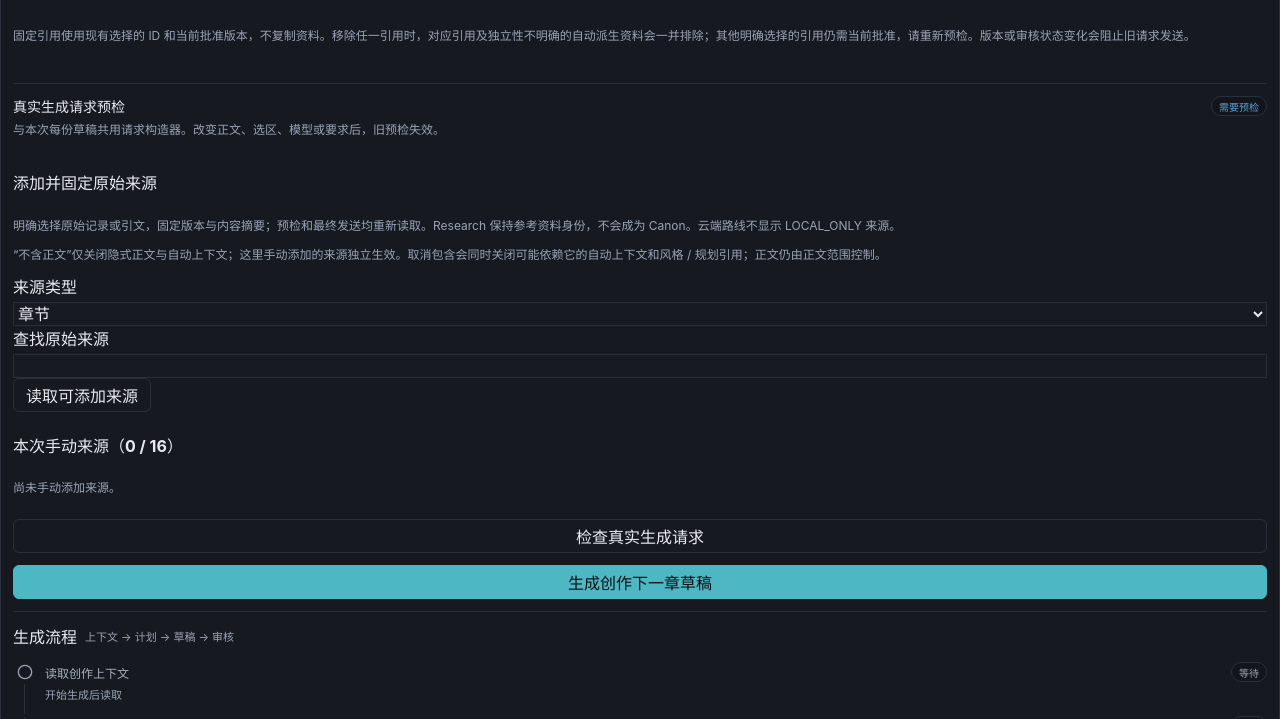
Test: never resurrects source pins after switching project authority and returning
The width and height of the screenshot is (1280, 719).
(page scrolled)
What coordinates should you click on to do the following:
click the button "读取可添加来源"
I would click on:
 (82, 394)
Its box is [13,378,151,412].
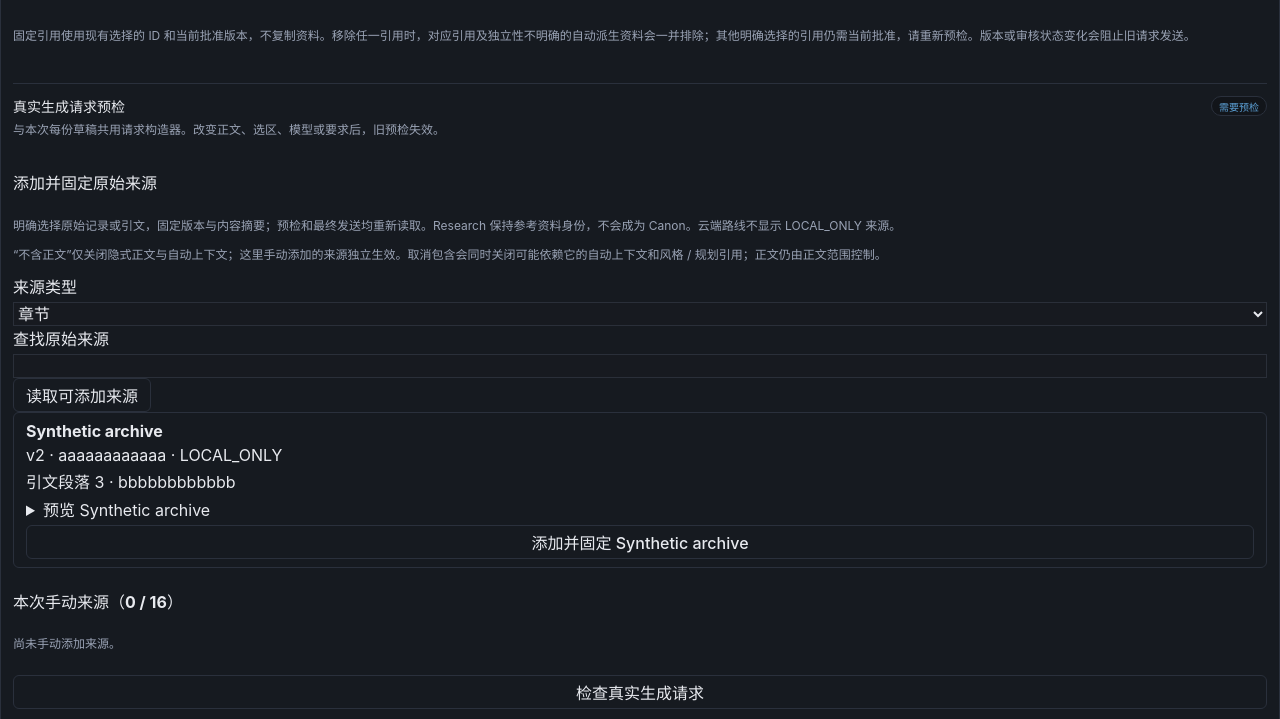
What coordinates should you click on to do the following:
click the button "添加并固定 Synthetic archive"
I would click on:
 (640, 542)
Its box is [26,524,1254,558].
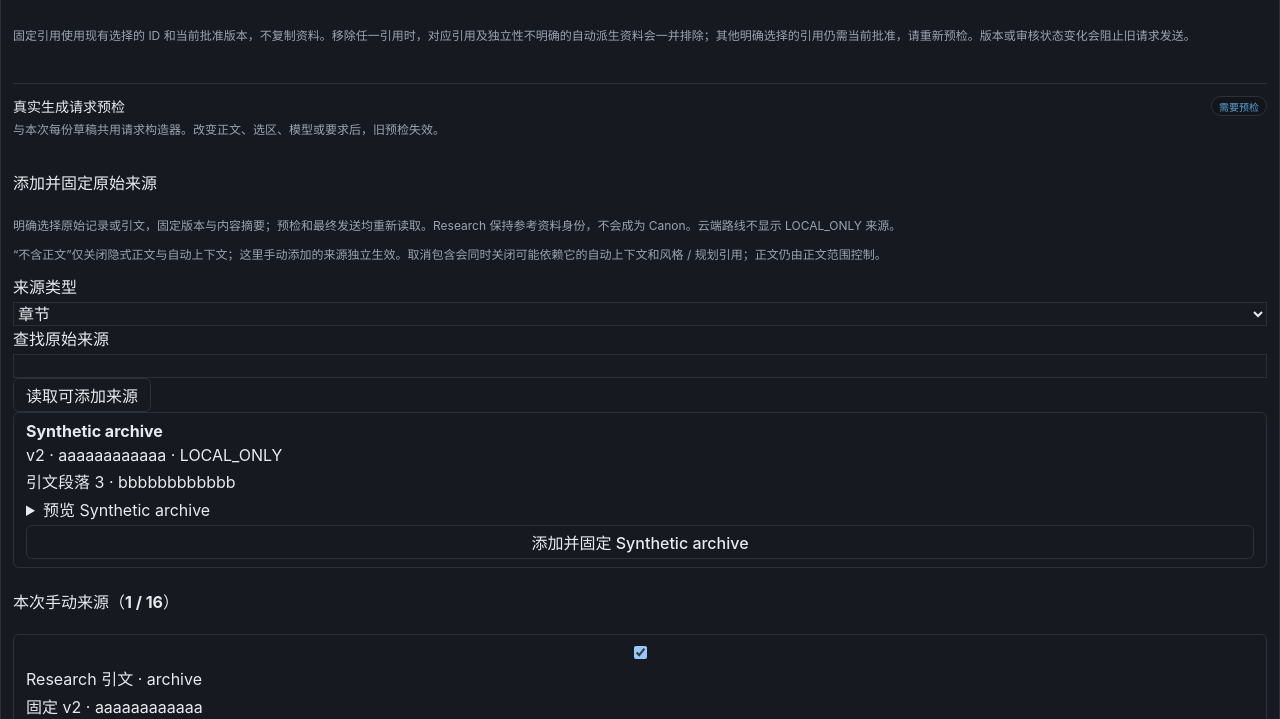
Expected: the checkbox named "包含手动来源 archive" is shown, [30,646,1251,659]
